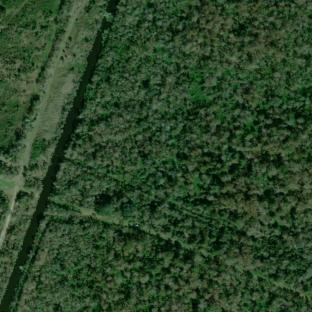Floresta: (8, 0, 312, 312)
